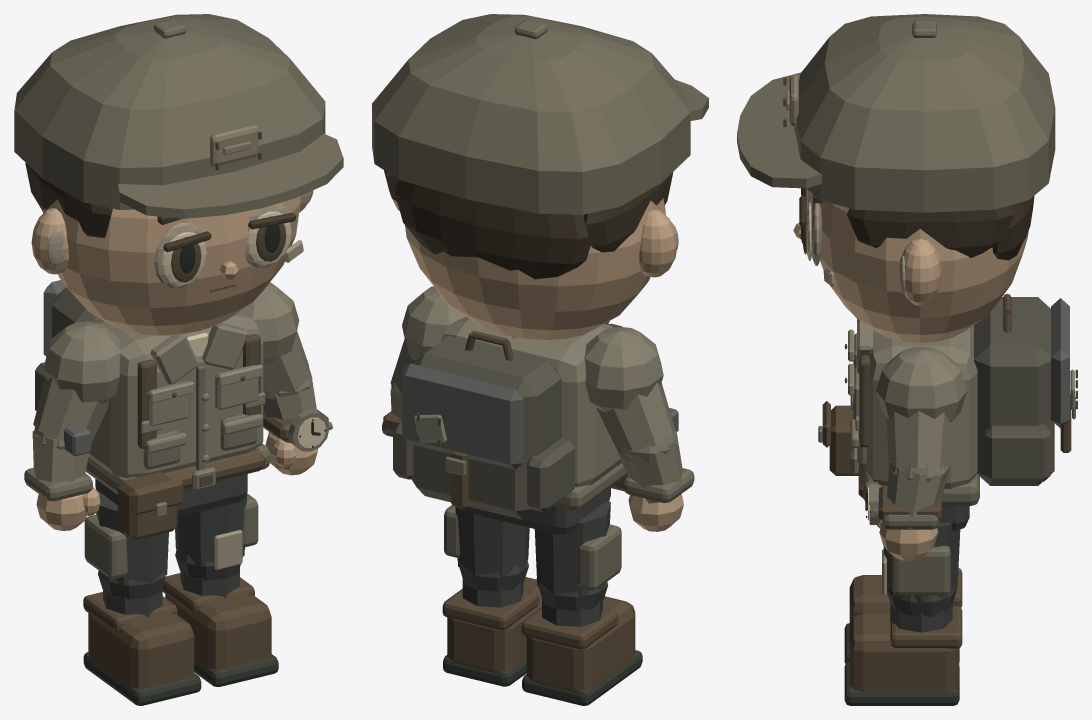
Rendered from ReferenceSurvivor.glb.
3 renders of one model, left to right at view 1: azimuth 30°, elevation 25°; view 2: azimuth 150°, elevation 25°; view 3: azimuth 270°, elevation 25°, orthographic. The views are drawn at different scales.
Parts seen in each view (by area): view 1: Reference_Cap, Reference_Shirt, Reference_Face, Recovery_Boots, Reference_Trousers, Reference_Backpack, Reference_BeltPouch, Recovery_Hands, Reference_Hair, Reference_Belt, Recovery_Wristwatch; view 2: Reference_Cap, Reference_Backpack, Reference_Shirt, Reference_Face, Recovery_Boots, Reference_Trousers, Reference_Hair, Recovery_Hands; view 3: Reference_Cap, Reference_Shirt, Reference_Face, Reference_Backpack, Recovery_Boots, Reference_Hair, Reference_Trousers, Reference_BeltPouch, Recovery_Hands, Recovery_Wristwatch.
Boxes of the visible parts, x1=… form: Reference_Cap: x1=14, y1=14, x2=343, y2=218; Reference_Shirt: x1=24, y1=282, x2=316, y2=516; Reference_Face: x1=31, y1=190, x2=313, y2=335; Recovery_Boots: x1=83, y1=573, x2=278, y2=705; Reference_Trousers: x1=84, y1=491, x2=258, y2=617; Reference_Backpack: x1=35, y1=280, x2=260, y2=448; Reference_BeltPouch: x1=117, y1=472, x2=183, y2=540; Recovery_Hands: x1=36, y1=432, x2=318, y2=530; Reference_Hair: x1=25, y1=163, x2=112, y2=237; Reference_Belt: x1=163, y1=448, x2=265, y2=490; Recovery_Wristwatch: x1=263, y1=409, x2=332, y2=451; Reference_Cap: x1=372, y1=14, x2=708, y2=214; Reference_Backpack: x1=393, y1=323, x2=622, y2=519; Reference_Shirt: x1=382, y1=286, x2=694, y2=534; Reference_Face: x1=392, y1=198, x2=678, y2=340; Recovery_Boots: x1=442, y1=577, x2=642, y2=705; Reference_Trousers: x1=444, y1=500, x2=621, y2=626; Reference_Hair: x1=384, y1=170, x2=673, y2=279; Recovery_Hands: x1=628, y1=494, x2=683, y2=531; Reference_Cap: x1=737, y1=14, x2=1055, y2=212; Reference_Shirt: x1=844, y1=319, x2=979, y2=530; Reference_Face: x1=793, y1=188, x2=1028, y2=342; Reference_Backpack: x1=859, y1=293, x2=1077, y2=485; Recovery_Boots: x1=844, y1=568, x2=962, y2=705; Reference_Hair: x1=847, y1=196, x2=1034, y2=260; Reference_Trousers: x1=882, y1=522, x2=960, y2=632; Reference_BeltPouch: x1=818, y1=401, x2=858, y2=475; Recovery_Hands: x1=878, y1=513, x2=938, y2=560; Recovery_Wristwatch: x1=865, y1=482, x2=941, y2=524.
Bounding box in the file's own units: 0.9645 × 2.08 × 0.9931.
